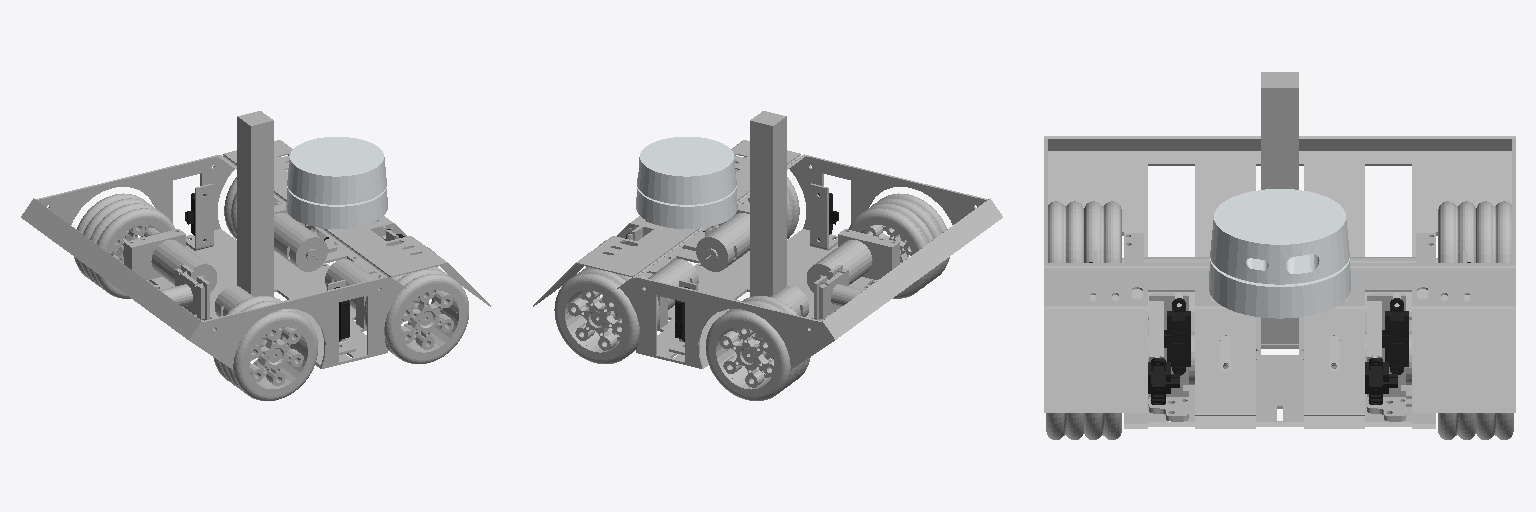
The robot description file, URDF, robot "kinect_model":
<?xml version="1.0" encoding="utf-8"?>
<!-- This URDF was automatically created by SolidWorks to URDF Exporter! Originally created by [author] ([email redacted]) 
     Commit Version: 1.6.0-1-g15f4949  Build Version: 1.6.7594.29634
     For more information, please see http://wiki.ros.org/sw_urdf_exporter -->
<robot
  name="kinect_model">
  <link
    name="base_link">
    <inertial>
      <origin
        xyz="0.0113393952513282 -1.53435493170311E-05 0.0243868937815651"
        rpy="0 0 0" />
      <mass
        value="2.30756670666722" />
      <inertia
        ixx="0.00800283588895297"
        ixy="1.59481545353448E-07"
        ixz="0.000733932077942134"
        iyy="0.0066364912890978"
        iyz="2.90926203156029E-07"
        izz="0.0130431055308841" />
    </inertial>
    <visual>
      <origin
        xyz="0 0 0"
        rpy="0 0 0" />
      <geometry>
        <mesh
          filename="package://kinect_model/meshes/base_link.STL" />
      </geometry>
      <material
        name="">
        <color
          rgba="0.752941176470588 0.752941176470588 0.752941176470588 1" />
      </material>
    </visual>
    <collision>
      <origin
        xyz="0 0 0"
        rpy="0 0 0" />
      <geometry>
        <mesh
          filename="package://kinect_model/meshes/base_link.STL" />
      </geometry>
    </collision>
  </link>
<!--  <joint-->
<!--    name="LB_wheel_joint"-->
<!--    type="continuous">-->
<!--    <origin-->
<!--      xyz="-0.051575 0.1185 0.017"-->
<!--      rpy="0 0 0" />-->
<!--    <parent-->
<!--      link="base_link" />-->
<!--    <child-->
<!--      link="LB_wheel_link" />-->
<!--    <axis-->
<!--      xyz="0 -1 0" />-->
<!--  </joint>-->
  <link
    name="RF_wheel_link">
    <inertial>
      <origin
        xyz="2.77555756156289E-17 0.0144155178676929 1.73472347597681E-17"
        rpy="0 0 0" />
      <mass
        value="0.12660325610778" />
      <inertia
        ixx="5.54515308491946E-05"
        ixy="9.84820771895821E-21"
        ixz="5.09403348796379E-20"
        iyy="0.000103691650811599"
        iyz="2.66578769854652E-21"
        izz="5.54515308491945E-05" />
    </inertial>
    <visual>
      <origin
        xyz="0 0 0"
        rpy="0 0 0" />
      <geometry>
        <mesh
          filename="package://kinect_model/meshes/RF_wheel_link.STL" />
      </geometry>
      <material
        name="">
        <color
          rgba="0.752941176470588 0.752941176470588 0.752941176470588 1" />
      </material>
    </visual>
    <collision>
      <origin
        xyz="0 0 0"
        rpy="0 0 0" />
      <geometry>
        <mesh
          filename="package://kinect_model/meshes/RF_wheel_link.STL" />
      </geometry>
    </collision>
  </link>
  <joint
    name="RF_wheel_joint"
    type="continuous">
    <origin
      xyz="0.0784235230362508 -0.1185 0.017"
      rpy="0 0 0" />
    <parent
      link="base_link" />
    <child
      link="RF_wheel_link" />
    <axis
      xyz="0 1 0" />
  </joint>
  <link
    name="RB_wheel_link">
    <inertial>
      <origin
        xyz="1.38777878078145E-17 0.014415517867693 1.73472347597681E-17"
        rpy="0 0 0" />
      <mass
        value="0.12660325610778" />
      <inertia
        ixx="5.54515308491959E-05"
        ixy="6.62916218446814E-21"
        ixz="4.7153919528763E-20"
        iyy="0.000103691650811599"
        iyz="6.87429813318011E-21"
        izz="5.54515308491959E-05" />
    </inertial>
    <visual>
      <origin
        xyz="0 0 0"
        rpy="0 0 0" />
      <geometry>
        <mesh
          filename="package://kinect_model/meshes/RB_wheel_link.STL" />
      </geometry>
      <material
        name="">
        <color
          rgba="0.752941176470588 0.752941176470588 0.752941176470588 1" />
      </material>
    </visual>
    <collision>
      <origin
        xyz="0 0 0"
        rpy="0 0 0" />
      <geometry>
        <mesh
          filename="package://kinect_model/meshes/RB_wheel_link.STL" />
      </geometry>
    </collision>
  </link>
  <joint
    name="RB_wheel_joint"
    type="continuous">
    <origin
      xyz="-0.0515749621984941 -0.1185 0.0170000000000001"
      rpy="0 0 0" />
    <parent
      link="base_link" />
    <child
      link="RB_wheel_link" />
    <axis
      xyz="0 1 0" />
  </joint>
  <link
    name="LF_wheel_link">
    <inertial>
      <origin
        xyz="0 -0.0144155178676929 0"
        rpy="0 0 0" />
      <mass
        value="0.12660325610778" />
      <inertia
        ixx="5.54515308491946E-05"
        ixy="1.11495609237839E-20"
        ixz="3.63801146273642E-20"
        iyy="0.000103691650811599"
        iyz="-6.56912736131577E-22"
        izz="5.54515308491945E-05" />
    </inertial>
    <visual>
      <origin
        xyz="0 0 0"
        rpy="0 0 0" />
      <geometry>
        <mesh
          filename="package://kinect_model/meshes/LF_wheel_link.STL" />
      </geometry>
      <material
        name="">
        <color
          rgba="0.752941176470588 0.752941176470588 0.752941176470588 1" />
      </material>
    </visual>
    <collision>
      <origin
        xyz="0 0 0"
        rpy="0 0 0" />
      <geometry>
        <mesh
          filename="package://kinect_model/meshes/LF_wheel_link.STL" />
      </geometry>
    </collision>
  </link>
  <joint
    name="LF_wheel_joint"
    type="continuous">
    <origin
      xyz="0.0784235230362503 0.1185 0.017"
      rpy="0 0 0" />
    <parent
      link="base_link" />
    <child
      link="LF_wheel_link" />
    <axis
      xyz="0 1 0" />
  </joint>
  <link
    name="LB_wheel_link">
    <inertial>
      <origin
        xyz="-2.08166817117217E-17 -0.0144155178676929 -6.93889390390723E-18"
        rpy="0 0 0" />
      <mass
        value="0.12660325610778" />
      <inertia
        ixx="5.54515308491946E-05"
        ixy="1.12624709019844E-20"
        ixz="5.00963968017422E-20"
        iyy="0.000103691650811599"
        iyz="-9.88362241127094E-22"
        izz="5.54515308491945E-05" />
    </inertial>
    <visual>
      <origin
        xyz="0 0 0"
        rpy="0 0 0" />
      <geometry>
        <mesh
          filename="package://kinect_model/meshes/LB_wheel_link.STL" />
      </geometry>
      <material
        name="">
        <color
          rgba="0.752941176470588 0.752941176470588 0.752941176470588 1" />
      </material>
    </visual>
    <collision>
      <origin
        xyz="0 0 0"
        rpy="0 0 0" />
      <geometry>
        <mesh
          filename="package://kinect_model/meshes/LB_wheel_link.STL" />
      </geometry>
    </collision>
  </link>
  <joint
    name="LB_wheel_joint"
    type="continuous">
    <origin
      xyz="-0.0515749621984946 0.1185 0.017"
      rpy="0 0 0" />
    <parent
      link="base_link" />
    <child
      link="LB_wheel_link" />
    <axis
      xyz="0 -1 0" />
  </joint>
  <link
    name="camera_link">
    <inertial>
      <origin
        xyz="-0.0202903257890848 -5.24309769771167E-18 -3.46944695195361E-18"
        rpy="0 0 0" />
      <mass
        value="0.074292004386588" />
      <inertia
        ixx="6.25164561595021E-06"
        ixy="8.13721429177202E-23"
        ixz="-7.81926009241593E-23"
        iyy="9.60171917646479E-06"
        iyz="-1.04762747697268E-22"
        izz="1.14159968448672E-05" />
    </inertial>
    <visual>
      <origin
        xyz="0 0 0"
        rpy="0 0 0" />
      <geometry>
        <mesh
          filename="package://kinect_model/meshes/camera_link.STL" />
      </geometry>
      <material
        name="">
        <color
          rgba="0.752941176470588 0.752941176470588 0.752941176470588 1" />
      </material>
    </visual>
    <collision>
      <origin
        xyz="0 0 0"
        rpy="0 0 0" />
      <geometry>
        <mesh
          filename="package://kinect_model/meshes/camera_link.STL" />
      </geometry>
    </collision>
  </link>
  <joint
    name="camera_joint"
    type="fixed">
    <origin
      xyz="-0.0854500682801336 0 0.021"
      rpy="0 0 3.14159265358979" />
    <parent
      link="base_link" />
    <child
      link="camera_link" />
    <axis
      xyz="0 0 0" />
  </joint>
  <link
    name="R_range_link">
    <inertial>
      <origin
        xyz="-0.00811934334227205 -0.00018837865378904 -0.0109796493363324"
        rpy="0 0 0" />
      <mass
        value="0.00426614745709291" />
      <inertia
        ixx="4.07348519263311E-07"
        ixy="-1.07222949743695E-10"
        ixz="-6.31099022040222E-10"
        iyy="4.07971772782717E-07"
        iyz="-1.6467327687883E-11"
        izz="1.07995575989039E-07" />
    </inertial>
    <visual>
      <origin
        xyz="0 0 0"
        rpy="0 0 0" />
      <geometry>
        <mesh
          filename="package://kinect_model/meshes/R_range_link.STL" />
      </geometry>
      <material
        name="">
        <color
          rgba="0.180392156862745 0.180392156862745 0.180392156862745 1" />
      </material>
    </visual>
    <collision>
      <origin
        xyz="0 0 0"
        rpy="0 0 0" />
      <geometry>
        <mesh
          filename="package://kinect_model/meshes/R_range_link.STL" />
      </geometry>
    </collision>
  </link>
  <joint
    name="R_range_joint"
    type="fixed">
    <origin
      xyz="0.0127112996311823 -0.1125 0.0392366"
      rpy="0 0 -1.5707963267949" />
    <parent
      link="base_link" />
    <child
      link="R_range_link" />
    <axis
      xyz="0 0 0" />
  </joint>
  <link
    name="L_range_link">
    <inertial>
      <origin
        xyz="-0.00701934334227206 0.000188378653789073 -0.0100315940308492"
        rpy="0 0 0" />
      <mass
        value="0.00426614745709292" />
      <inertia
        ixx="4.07348519263312E-07"
        ixy="1.07222949743718E-10"
        ixz="6.31099022040191E-10"
        iyy="4.07971772782718E-07"
        iyz="-1.64673276880139E-11"
        izz="1.07995575989039E-07" />
    </inertial>
    <visual>
      <origin
        xyz="0 0 0"
        rpy="0 0 0" />
      <geometry>
        <mesh
          filename="package://kinect_model/meshes/L_range_link.STL" />
      </geometry>
      <material
        name="">
        <color
          rgba="0.180392156862745 0.180392156862745 0.180392156862745 1" />
      </material>
    </visual>
    <collision>
      <origin
        xyz="0 0 0"
        rpy="0 0 0" />
      <geometry>
        <mesh
          filename="package://kinect_model/meshes/L_range_link.STL" />
      </geometry>
    </collision>
  </link>
  <joint
    name="L_range_joint"
    type="fixed">
    <origin
      xyz="0.0123868089774774 0.1114 0.0382478433671816"
      rpy="0 0 1.5707963267949" />
    <parent
      link="base_link" />
    <child
      link="L_range_link" />
    <axis
      xyz="0 0 0" />
  </joint>
  <link
    name="RF_range_link">
    <inertial>
      <origin
        xyz="-0.00731934334227206 -0.000188378653789074 -0.0109796493363324"
        rpy="0 0 0" />
      <mass
        value="0.00426614745709292" />
      <inertia
        ixx="4.07348519263312E-07"
        ixy="-1.07222949743672E-10"
        ixz="-6.31099022040263E-10"
        iyy="4.07971772782718E-07"
        iyz="-1.64673276880109E-11"
        izz="1.07995575989039E-07" />
    </inertial>
    <visual>
      <origin
        xyz="0 0 0"
        rpy="0 0 0" />
      <geometry>
        <mesh
          filename="package://kinect_model/meshes/RF_range_link.STL" />
      </geometry>
      <material
        name="">
        <color
          rgba="0.180392156862745 0.180392156862745 0.180392156862745 1" />
      </material>
    </visual>
    <collision>
      <origin
        xyz="0 0 0"
        rpy="0 0 0" />
      <geometry>
        <mesh
          filename="package://kinect_model/meshes/RF_range_link.STL" />
      </geometry>
    </collision>
  </link>
  <joint
    name="RF_range_joint"
    type="fixed">
    <origin
      xyz="0.095464280418878 -0.0534999999999997 0.0515"
      rpy="0 0 0" />
    <parent
      link="base_link" />
    <child
      link="RF_range_link" />
    <axis
      xyz="0 0 0" />
  </joint>
  <link
    name="RB_range_link">
    <inertial>
      <origin
        xyz="-0.00701934334227206 0.000188378653789081 -0.0100315940308492"
        rpy="0 0 0" />
      <mass
        value="0.00426614745709292" />
      <inertia
        ixx="4.07348519263312E-07"
        ixy="1.07222949743657E-10"
        ixz="6.31099022040184E-10"
        iyy="4.07971772782718E-07"
        iyz="-1.6467327688003E-11"
        izz="1.07995575989039E-07" />
    </inertial>
    <visual>
      <origin
        xyz="0 0 0"
        rpy="0 0 0" />
      <geometry>
        <mesh
          filename="package://kinect_model/meshes/RB_range_link.STL" />
      </geometry>
      <material
        name="">
        <color
          rgba="0.180392156862745 0.180392156862745 0.180392156862745 1" />
      </material>
    </visual>
    <collision>
      <origin
        xyz="0 0 0"
        rpy="0 0 0" />
      <geometry>
        <mesh
          filename="package://kinect_model/meshes/RB_range_link.STL" />
      </geometry>
    </collision>
  </link>
  <joint
    name="RB_range_joint"
    type="fixed">
    <origin
      xyz="0.114521325155332 -0.0644999999999997 0.0252207965630269"
      rpy="0 0.785398163397454 0" />
    <parent
      link="base_link" />
    <child
      link="RB_range_link" />
    <axis
      xyz="0 0 0" />
  </joint>
  <link
    name="LF_range_link">
    <inertial>
      <origin
        xyz="-0.00811934334227205 -0.000188378653789067 -0.0109796493363324"
        rpy="0 0 0" />
      <mass
        value="0.00426614745709292" />
      <inertia
        ixx="4.07348519263312E-07"
        ixy="-1.07222949743721E-10"
        ixz="-6.31099022040278E-10"
        iyy="4.07971772782718E-07"
        iyz="-1.64673276879956E-11"
        izz="1.07995575989039E-07" />
    </inertial>
    <visual>
      <origin
        xyz="0 0 0"
        rpy="0 0 0" />
      <geometry>
        <mesh
          filename="package://kinect_model/meshes/LF_range_link.STL" />
      </geometry>
      <material
        name="">
        <color
          rgba="0.180392156862745 0.180392156862745 0.180392156862745 1" />
      </material>
    </visual>
    <collision>
      <origin
        xyz="0 0 0"
        rpy="0 0 0" />
      <geometry>
        <mesh
          filename="package://kinect_model/meshes/LF_range_link.STL" />
      </geometry>
    </collision>
  </link>
  <joint
    name="LF_range_joint"
    type="fixed">
    <origin
      xyz="0.0962642804188774 0.0620922441262945 0.0515"
      rpy="0 0 0" />
    <parent
      link="base_link" />
    <child
      link="LF_range_link" />
    <axis
      xyz="0 0 0" />
  </joint>
  <link
    name="LB_range_link">
    <inertial>
      <origin
        xyz="-0.00701934334227206 0.000188378653789081 -0.0100315940308492"
        rpy="0 0 0" />
      <mass
        value="0.00426614745709292" />
      <inertia
        ixx="4.07348519263312E-07"
        ixy="1.07222949743643E-10"
        ixz="6.31099022040114E-10"
        iyy="4.07971772782718E-07"
        iyz="-1.64673276880213E-11"
        izz="1.07995575989039E-07" />
    </inertial>
    <visual>
      <origin
        xyz="0 0 0"
        rpy="0 0 0" />
      <geometry>
        <mesh
          filename="package://kinect_model/meshes/LB_range_link.STL" />
      </geometry>
      <material
        name="">
        <color
          rgba="0.180392156862745 0.180392156862745 0.180392156862745 1" />
      </material>
    </visual>
    <collision>
      <origin
        xyz="0 0 0"
        rpy="0 0 0" />
      <geometry>
        <mesh
          filename="package://kinect_model/meshes/LB_range_link.STL" />
      </geometry>
    </collision>
  </link>
  <joint
    name="LB_range_joint"
    type="fixed">
    <origin
      xyz="0.114521325155331 0.0510922441262945 0.0252207965630269"
      rpy="0 0.785398163397454 0" />
    <parent
      link="base_link" />
    <child
      link="LB_range_link" />
    <axis
      xyz="0 0 0" />
  </joint>
  <link
    name="Lidar_link">
    <inertial>
      <origin
        xyz="-0.000682211679710637 -0.000150008271643339 -0.0217495811624094"
        rpy="0 0 0" />
      <mass
        value="0.464886528328847" />
      <inertia
        ixx="0.000228307774390107"
        ixy="1.54699926176774E-06"
        ixz="3.08074540886092E-06"
        iyy="0.000222654022654811"
        iyz="6.76890055210614E-07"
        izz="0.000313433847973582" />
    </inertial>
    <visual>
      <origin
        xyz="0 0 0"
        rpy="0 0 0" />
      <geometry>
        <mesh
          filename="package://kinect_model/meshes/Lidar_link.STL" />
      </geometry>
      <material
        name="">
        <color
          rgba="0.898039215686275 0.917647058823529 0.929411764705882 1" />
      </material>
    </visual>
    <collision>
      <origin
        xyz="0 0 0"
        rpy="0 0 0" />
      <geometry>
        <mesh
          filename="package://kinect_model/meshes/Lidar_link.STL" />
      </geometry>
    </collision>
  </link>
  <joint
    name="Lidar_Joint"
    type="fixed">
    <origin
      xyz="0.07 0 0.104312324043661"
      rpy="0 0 0" />
    <parent
      link="base_link" />
    <child
      link="Lidar_link" />
    <axis
      xyz="0 0 0" />
  </joint>
  <link
    name="KinectV2_link">
    <inertial>
      <origin
        xyz="-0.0348334075383216 -0.00548037773186402 -0.00342103561945831"
        rpy="0 0 0" />
      <mass
        value="0.820850234257136" />
      <inertia
        ixx="0.00375504667035701"
        ixy="1.88807909774668E-05"
        ixz="-1.45356088678848E-05"
        iyy="0.000409110348464913"
        iyz="3.06773823237538E-06"
        izz="0.00392263894443723" />
    </inertial>
    <visual>
      <origin
        xyz="0 0 0"
        rpy="0 0 0" />
      <geometry>
        <mesh
          filename="package://kinect_model/meshes/KinectV2_link.STL" />
      </geometry>
      <material
        name="">
        <color
          rgba="0.752941176470588 0.752941176470588 0.752941176470588 1" />
      </material>
    </visual>
    <collision>
      <origin
        xyz="0 0 0"
        rpy="0 0 0" />
      <geometry>
        <mesh
          filename="package://kinect_model/meshes/KinectV2_link.STL" />
      </geometry>
    </collision>
  </link>
  <joint
    name="KinectV2_Joint"
    type="fixed">
    <origin
      xyz="0.0466045341875297 0.00595876662338681 0.193913485084376"
      rpy="0 0 0" />
    <parent
      link="base_link" />
    <child
      link="KinectV2_link" />
    <axis
      xyz="0 0 0" />
  </joint>
</robot>

--- What the picture shows (computed from the rendered views, not written in the file) ---
3 views of the same robot in one strip: view 1: azimuth 30°, elevation 25°; view 2: azimuth 150°, elevation 25°; view 3: azimuth 270°, elevation 25° (orthographic).
Robot: kinect_model — 14 links, 13 joints (4 continuous, 9 fixed); root link base_link; default pose: every joint at zero.
Links seen in each view (by area): view 1: base_link, Lidar_link, RB_wheel_link, RF_wheel_link, LB_wheel_link, camera_link, LF_wheel_link; view 2: base_link, Lidar_link, LB_wheel_link, LF_wheel_link, RB_wheel_link, camera_link, RF_wheel_link; view 3: base_link, Lidar_link, RB_wheel_link, LB_wheel_link, RF_wheel_link, LF_wheel_link, LF_range_link, RF_range_link, LB_range_link, RB_range_link.
Boxes of the visible links, <box> form: base_link: <box>21,111,490,369</box>; Lidar_link: <box>286,137,387,228</box>; RB_wheel_link: <box>213,296,317,400</box>; RF_wheel_link: <box>364,267,468,363</box>; LB_wheel_link: <box>74,193,175,298</box>; camera_link: <box>160,268,204,319</box>; LF_wheel_link: <box>224,157,316,238</box>; base_link: <box>533,111,1002,369</box>; Lidar_link: <box>636,137,737,228</box>; LB_wheel_link: <box>706,296,810,400</box>; LF_wheel_link: <box>554,267,659,363</box>; RB_wheel_link: <box>848,193,949,298</box>; camera_link: <box>819,268,863,319</box>; RF_wheel_link: <box>735,157,799,238</box>; base_link: <box>1044,72,1515,428</box>; Lidar_link: <box>1209,189,1350,318</box>; RB_wheel_link: <box>1048,201,1121,262</box>; LB_wheel_link: <box>1438,201,1511,262</box>; RF_wheel_link: <box>1046,413,1121,439</box>; LF_wheel_link: <box>1438,413,1513,439</box>; LF_range_link: <box>1382,298,1408,374</box>; RF_range_link: <box>1164,298,1190,375</box>; LB_range_link: <box>1365,358,1397,404</box>; RB_range_link: <box>1148,358,1179,404</box>.
Bounding box of the posed robot: 0.2606 × 0.25 × 0.171 m (x, y, z).
13 mesh visuals loaded from 14 distinct referenced files (13 binary STL); not drawn: 1 (reference not matched to a file when rendering).
